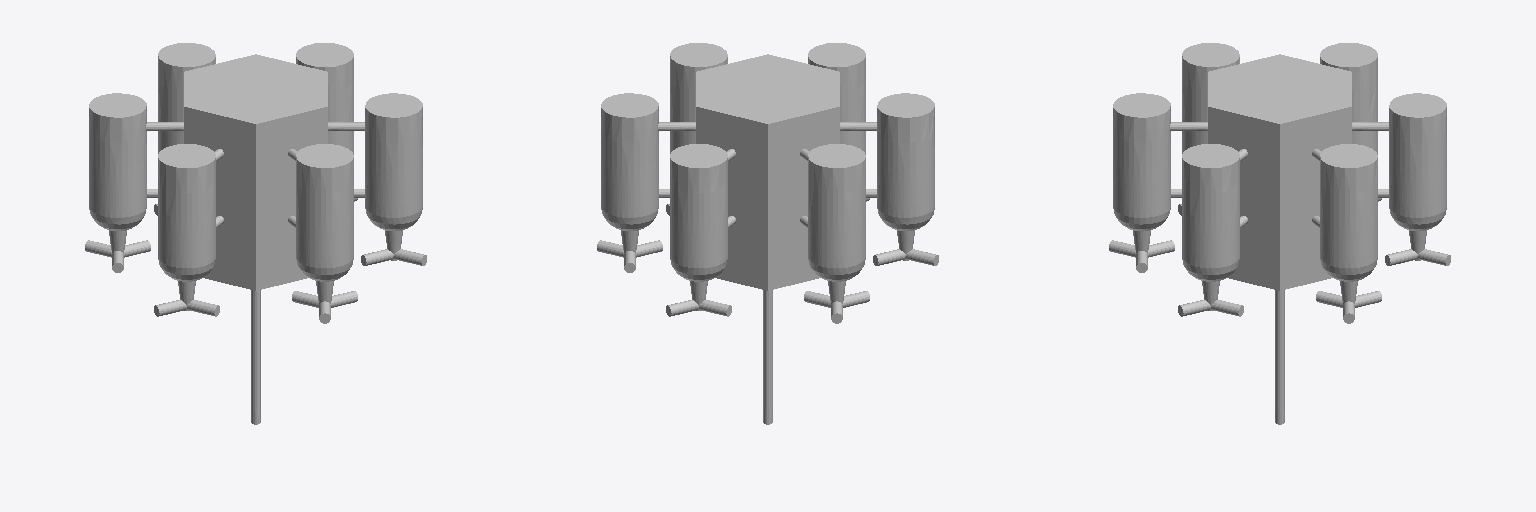
File: newnewBarbot1.obj
The picture shows the model from 3 angles: view 1: azimuth 30°, elevation 25°; view 2: azimuth 150°, elevation 25°; view 3: azimuth 270°, elevation 25°; orthographic projection.
Bounding box in the file's own units: 33.6 × 40 × 37.23.